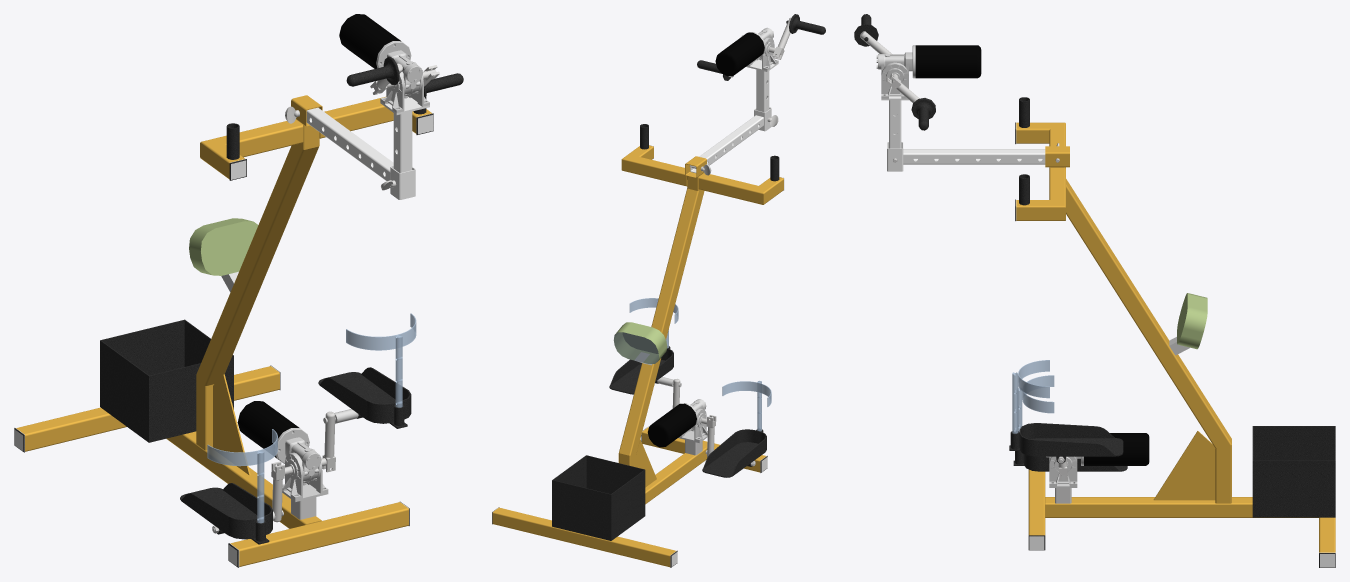
Rendered from BICI_ARMADA.glb.
The picture shows the model from 3 angles, left to right: view 1: azimuth 30°, elevation 25°; view 2: azimuth 150°, elevation 25°; view 3: azimuth 270°, elevation 25°; orthographic projection. The views are drawn at different scales.
Visible parts, largest first — view 1: BICI_ARMADA; view 2: BICI_ARMADA; view 3: BICI_ARMADA.
Boxes of the visible parts, bbox=[...] form: BICI_ARMADA: bbox=[14, 14, 463, 567]; BICI_ARMADA: bbox=[492, 14, 825, 567]; BICI_ARMADA: bbox=[854, 14, 1335, 567].
Bounding box in the file's own units: 0.606 × 1.27 × 1.16.
11 materials, 1 textured.
